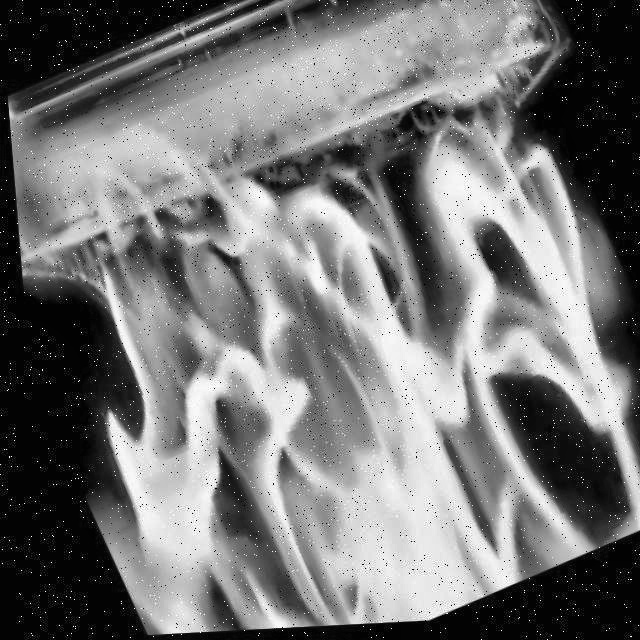Fire: (5, 46, 640, 640)
